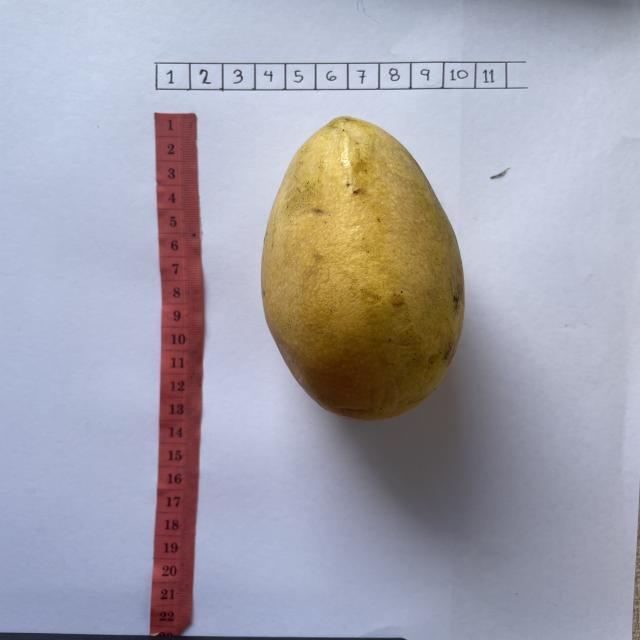Ripe: (259, 116, 466, 424)
